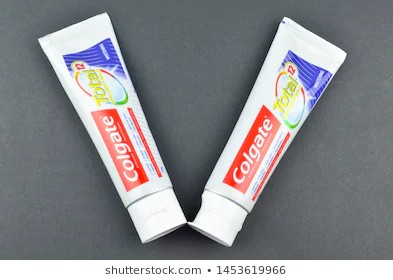colgate-total-150gm: (185, 16, 357, 245), (31, 10, 189, 234)
